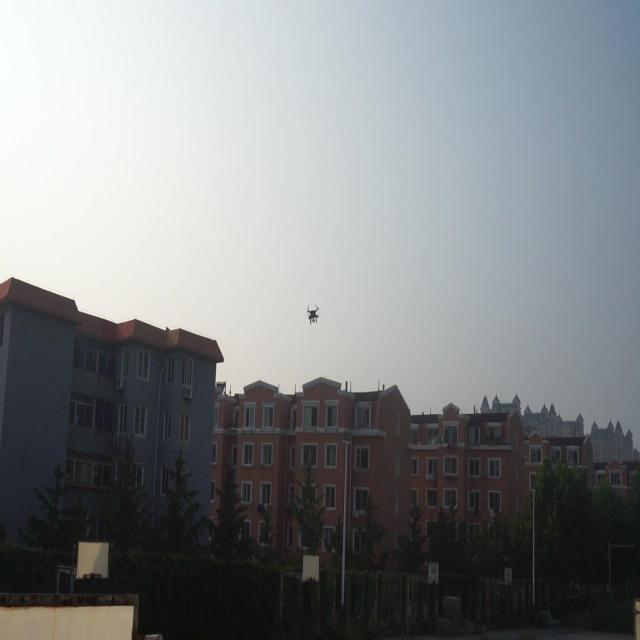UAV: (307, 304, 321, 326)
